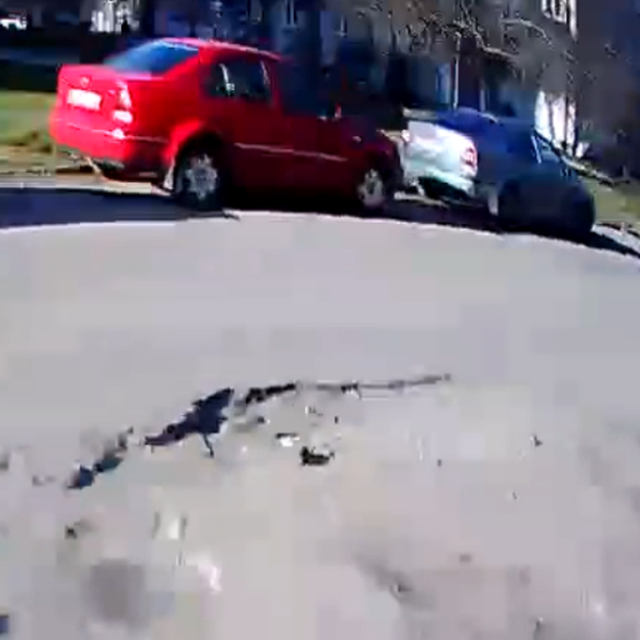car: (46, 35, 401, 214), (397, 108, 595, 223)
